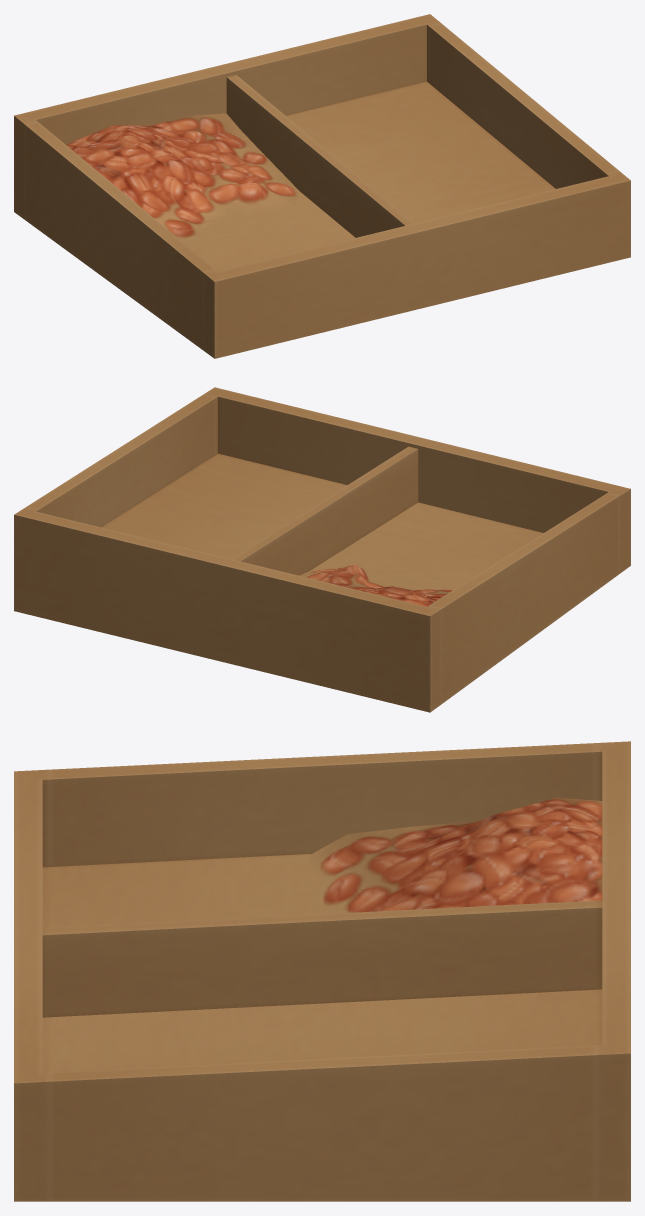
Rendered from jsf_CastellaTray_02.fbx.
3 renders of one model, top to bottom at view 1: azimuth 30°, elevation 25°; view 2: azimuth 150°, elevation 25°; view 3: azimuth 270°, elevation 25°, orthographic. The views are drawn at different scales.
Visible parts, largest first — view 1: jsf_CastellaTray_02; view 2: jsf_CastellaTray_02; view 3: jsf_CastellaTray_02.
Boxes of the visible parts, x1,y1,x2,y2 form: jsf_CastellaTray_02: (14,14,630,358); jsf_CastellaTray_02: (14,387,630,712); jsf_CastellaTray_02: (14,741,630,1201).
Size of the model in its own units: 85.37 by 18.89 by 71.32.
